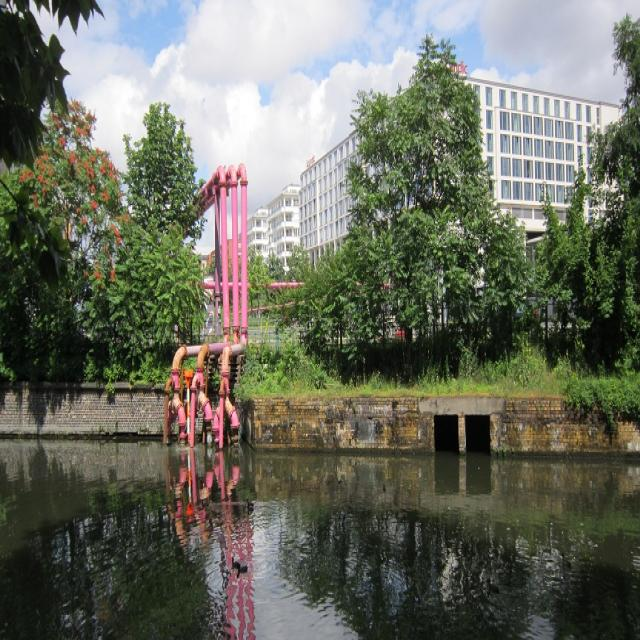gas: (191, 362, 211, 442), (219, 185, 230, 328), (218, 371, 238, 445), (170, 358, 186, 442), (232, 185, 239, 328), (241, 185, 248, 326), (224, 340, 250, 368), (197, 335, 220, 365), (174, 339, 199, 358)
